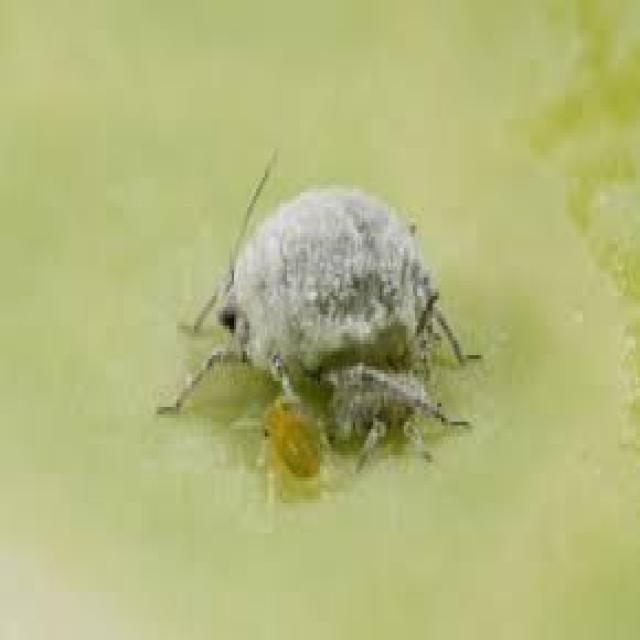Aphid: (143, 132, 502, 527)
